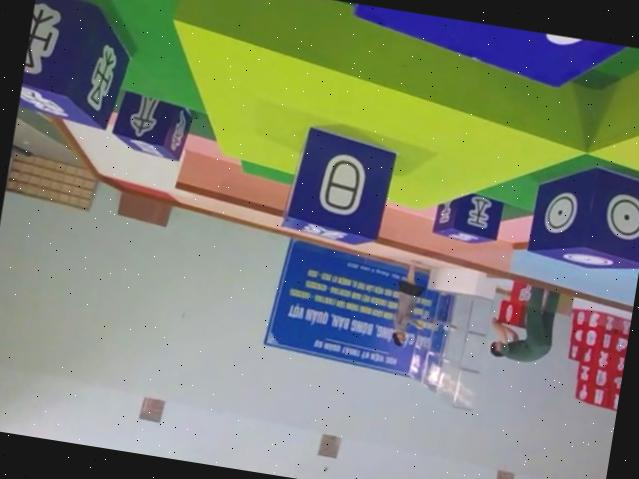R2 Fake Blue: (280, 122, 400, 249), (105, 86, 192, 159), (427, 185, 502, 246)
R2 Real Blue: (16, 0, 139, 127), (523, 157, 639, 276)
